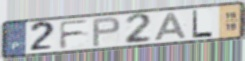2: (28, 20, 58, 54), (124, 13, 153, 47)
A: (153, 12, 188, 42)
F: (58, 18, 91, 50)
L: (191, 9, 215, 39)
P: (91, 16, 122, 48)
